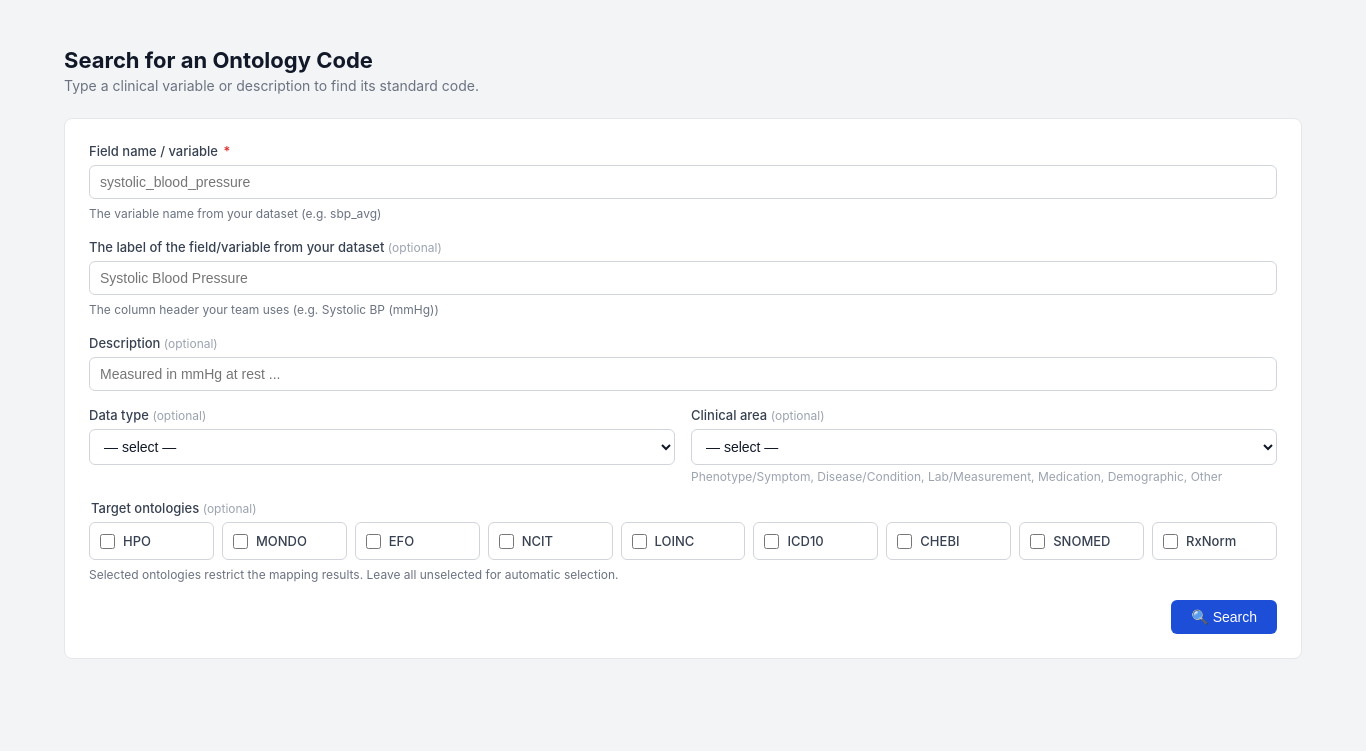
SearchPage UNMAPPED alternatives › shows the no-match card without an empty Other suggestions section when there are no alternatives
Type "sbp" into the field labelled "Field name / variable *" at (683, 182), box [89,165,1277,199]
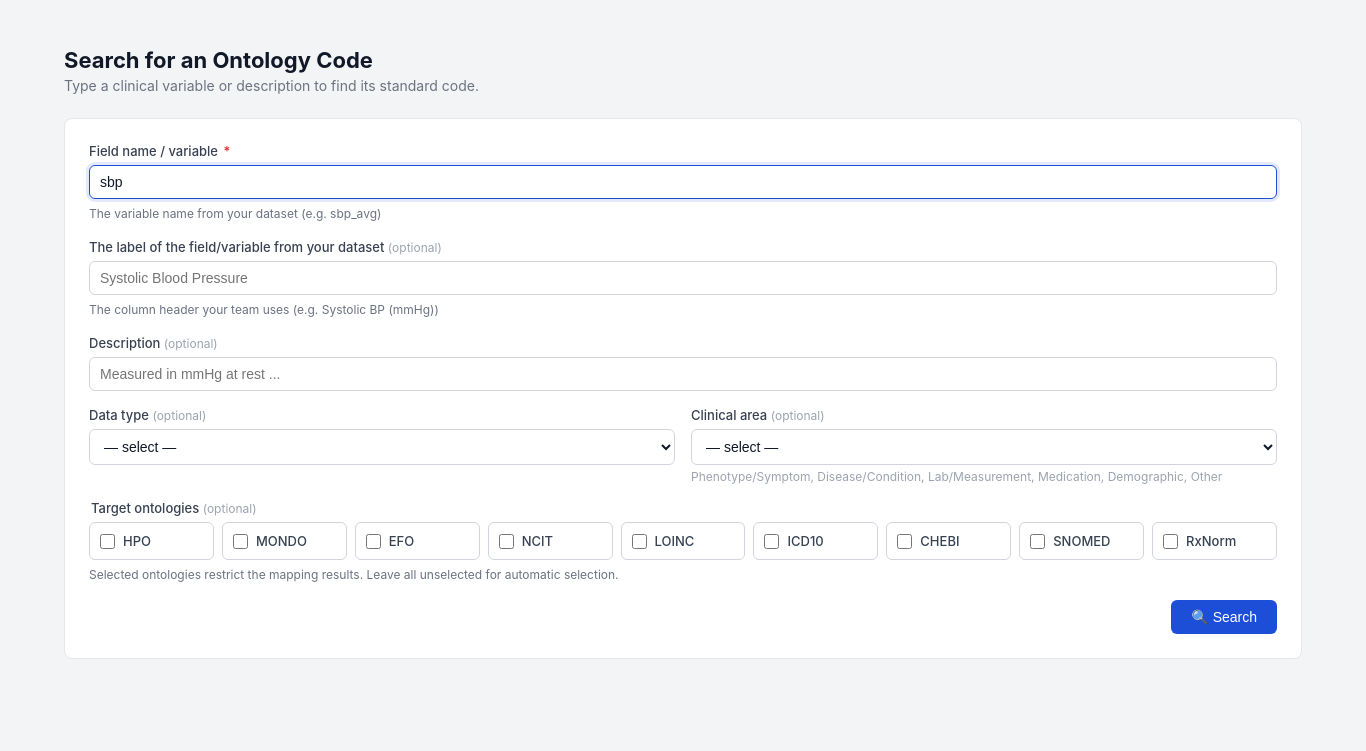
Click the button "🔍 Search" at (1224, 617), box [1171,600,1277,634]
(page scrolled)
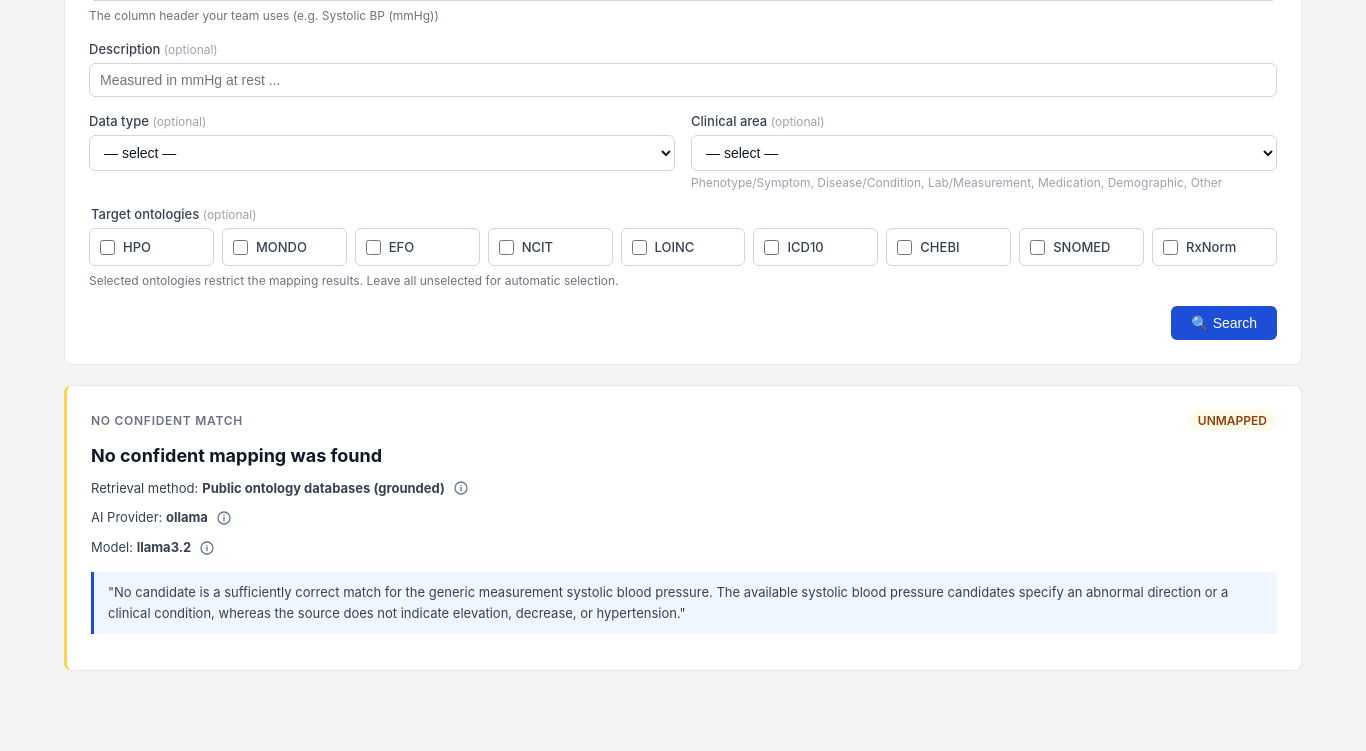
expect the text "No confident match" is shown: met, box [91,413,243,428]
expect the text "No candidate is a sufficiently correct m" is shown: met, box [108,584,1228,621]
